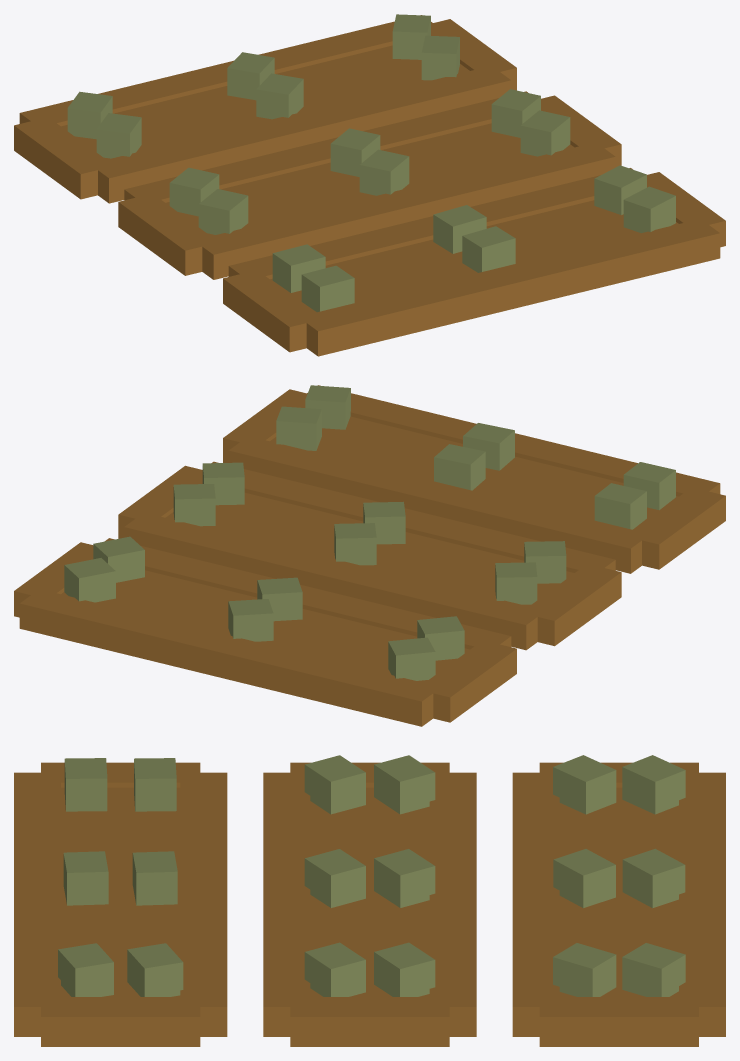
File: SM_Bancales_v0_Plantas_LOD1.fbx
3 renders of one model, top to bottom at view 1: azimuth 30°, elevation 25°; view 2: azimuth 150°, elevation 25°; view 3: azimuth 270°, elevation 25°, orthographic. The views are drawn at different scales.
Visible parts, largest first — view 1: SM_vida_fuerte_v10_LOD1; view 2: SM_vida_fuerte_v10_LOD1; view 3: SM_vida_fuerte_v10_LOD1.
Part boxes in pixels (bbox=[...]): SM_vida_fuerte_v10_LOD1: bbox=[14, 14, 725, 356]; SM_vida_fuerte_v10_LOD1: bbox=[14, 385, 725, 726]; SM_vida_fuerte_v10_LOD1: bbox=[14, 755, 725, 1046].
Bounding box in the file's own units: 4.34 × 0.46 × 5.14.
